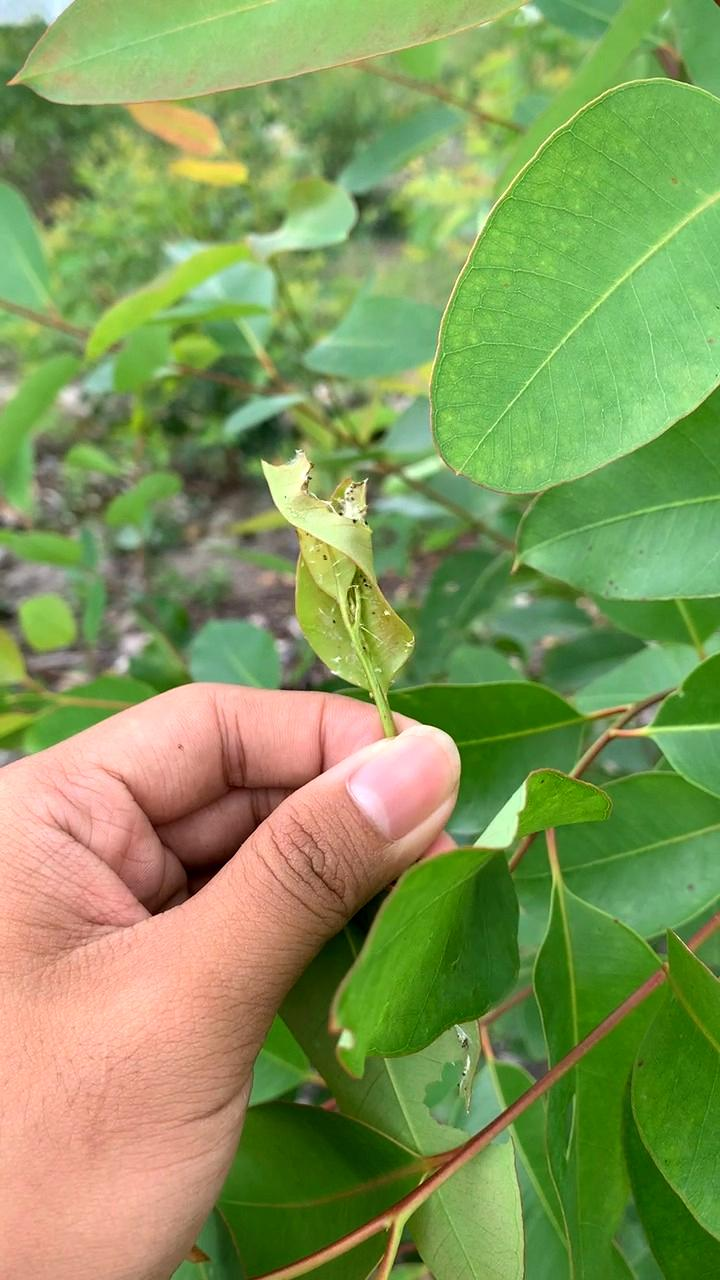Leaf Roller - Leaf: (268, 446, 413, 709)
